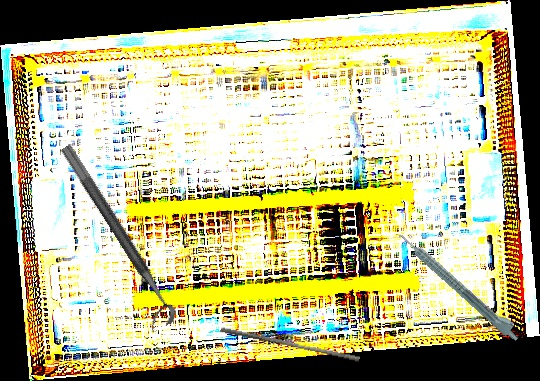Fixation Ring: (45, 143, 180, 334)
Handpiece: (396, 225, 525, 345)
Pusher: (219, 326, 361, 363)
